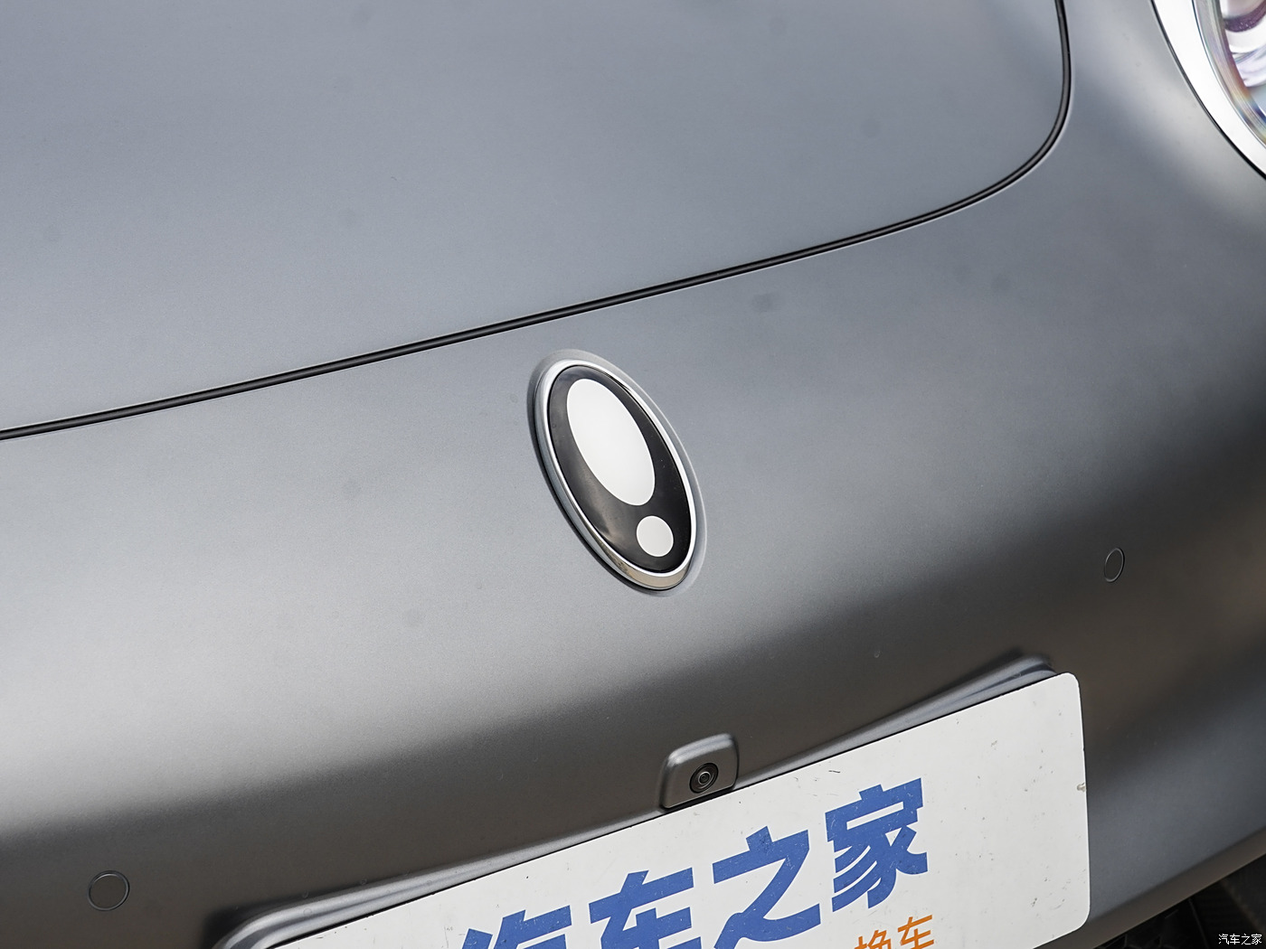ORA: (536, 359, 697, 587)
